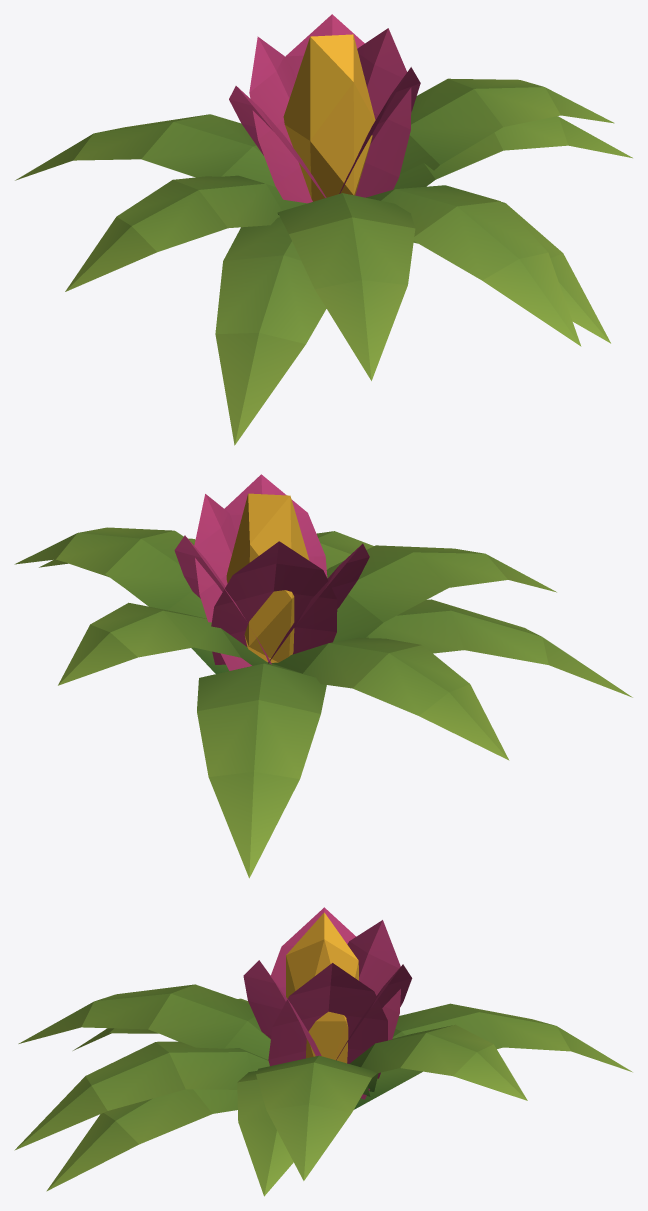
The model's file is bromeliad_pink.glb.
3 renders of one model, top to bottom at view 1: azimuth 30°, elevation 25°; view 2: azimuth 150°, elevation 25°; view 3: azimuth 270°, elevation 25°, orthographic. The views are drawn at different scales.
Parts seen in each view (by area): view 1: bromeliad_pink_leaf, bromeliad_pink_solid; view 2: bromeliad_pink_leaf, bromeliad_pink_solid; view 3: bromeliad_pink_leaf, bromeliad_pink_solid.
Part boxes in pixels (x1=…): bromeliad_pink_leaf: x1=15, y1=14, x2=632, y2=445; bromeliad_pink_solid: x1=283, y1=34, x2=375, y2=201; bromeliad_pink_leaf: x1=14, y1=474, x2=632, y2=878; bromeliad_pink_solid: x1=226, y1=493, x2=309, y2=662; bromeliad_pink_leaf: x1=14, y1=907, x2=632, y2=1196; bromeliad_pink_solid: x1=286, y1=912, x2=358, y2=1063.
Bounding box in the file's own units: 0.6407 × 0.2966 × 0.7107.
